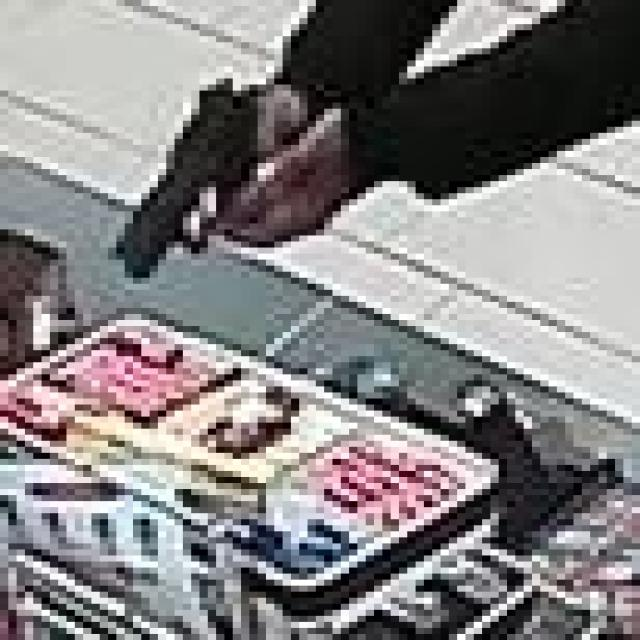Guns: (86, 65, 300, 298)
